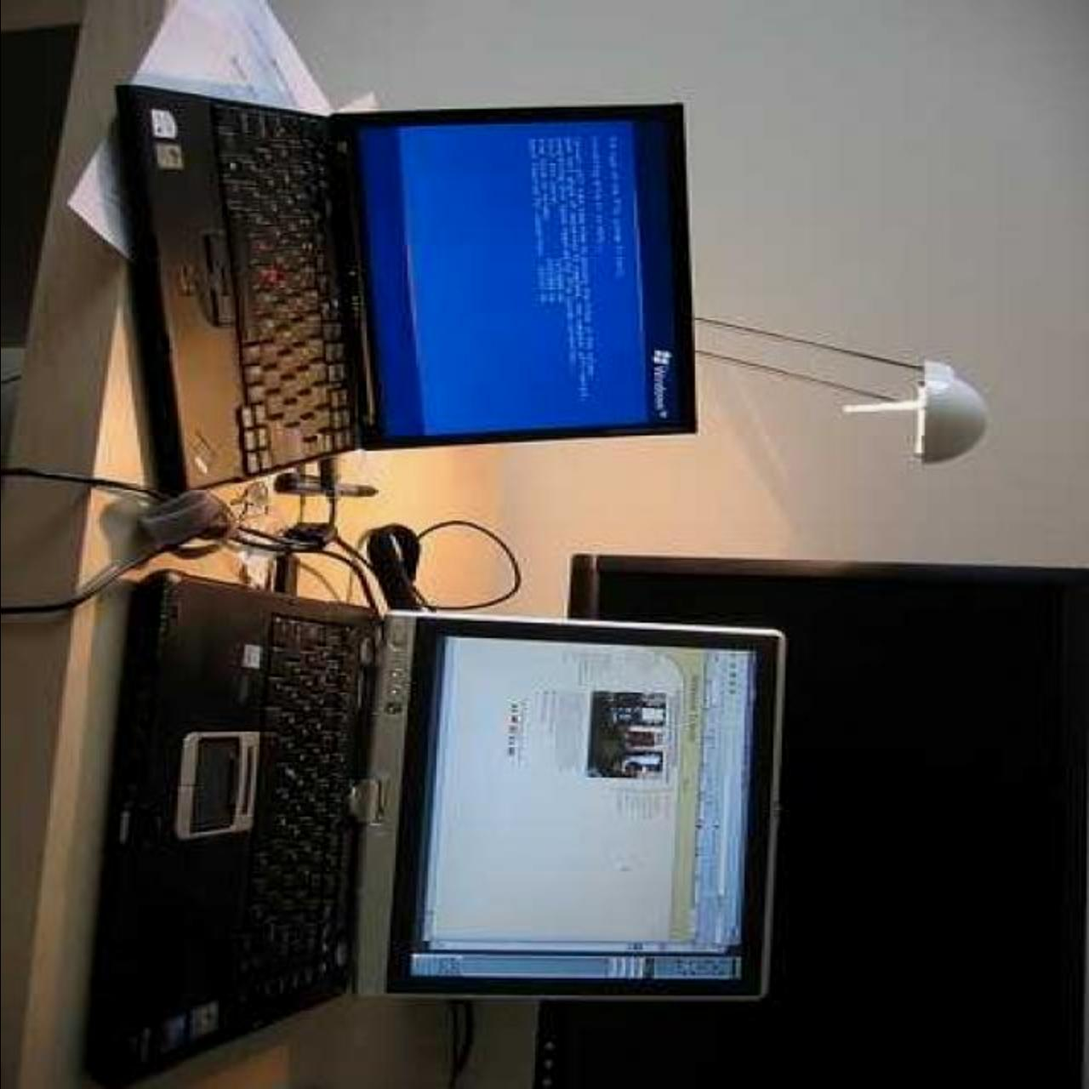laptop: (152, 592, 794, 1028), (113, 86, 710, 503)
